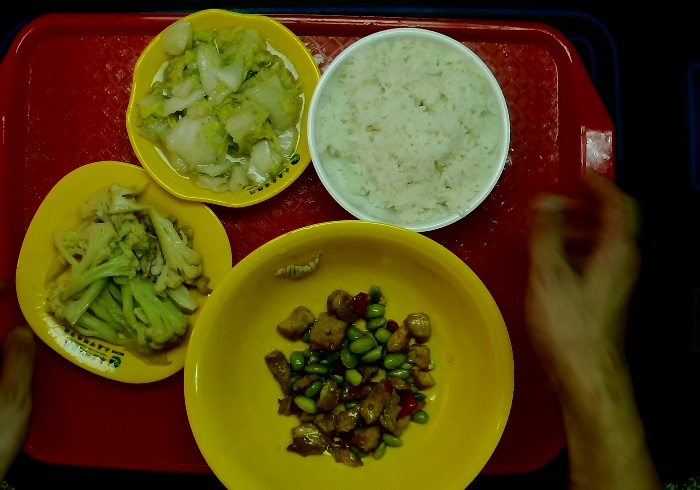YKMZ-Fan_Wan: (302, 22, 516, 240)
YKMZ-Huang_Se_Ao_Bian_Wan: (123, 8, 324, 211)
YKMZ-Huang_Se_Fang_Die: (16, 157, 236, 391)
YKMZ-Huang_Se_Tang_Wan: (180, 216, 519, 490)
